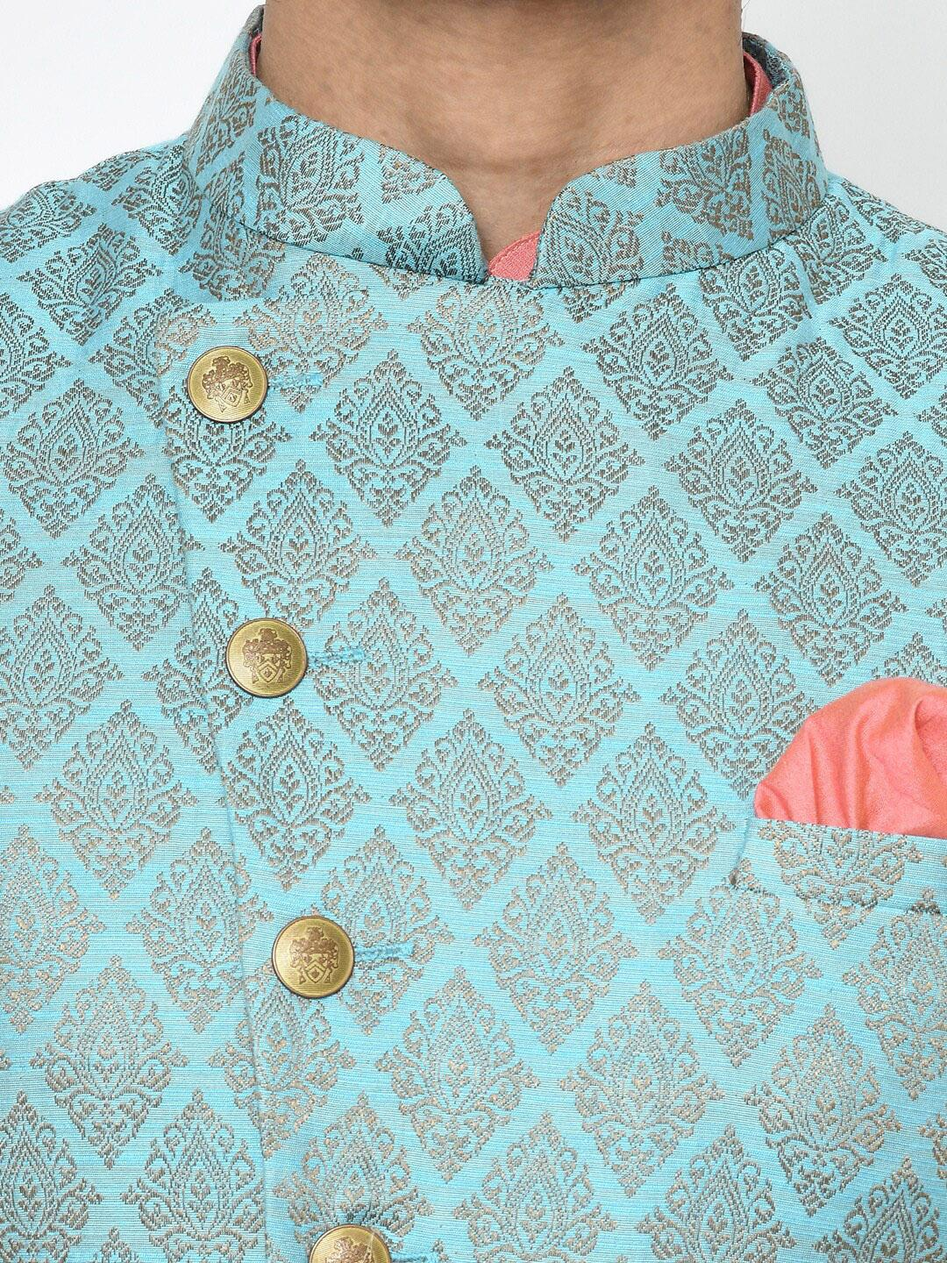Desgin sherwani: (3, 4, 946, 1260)
